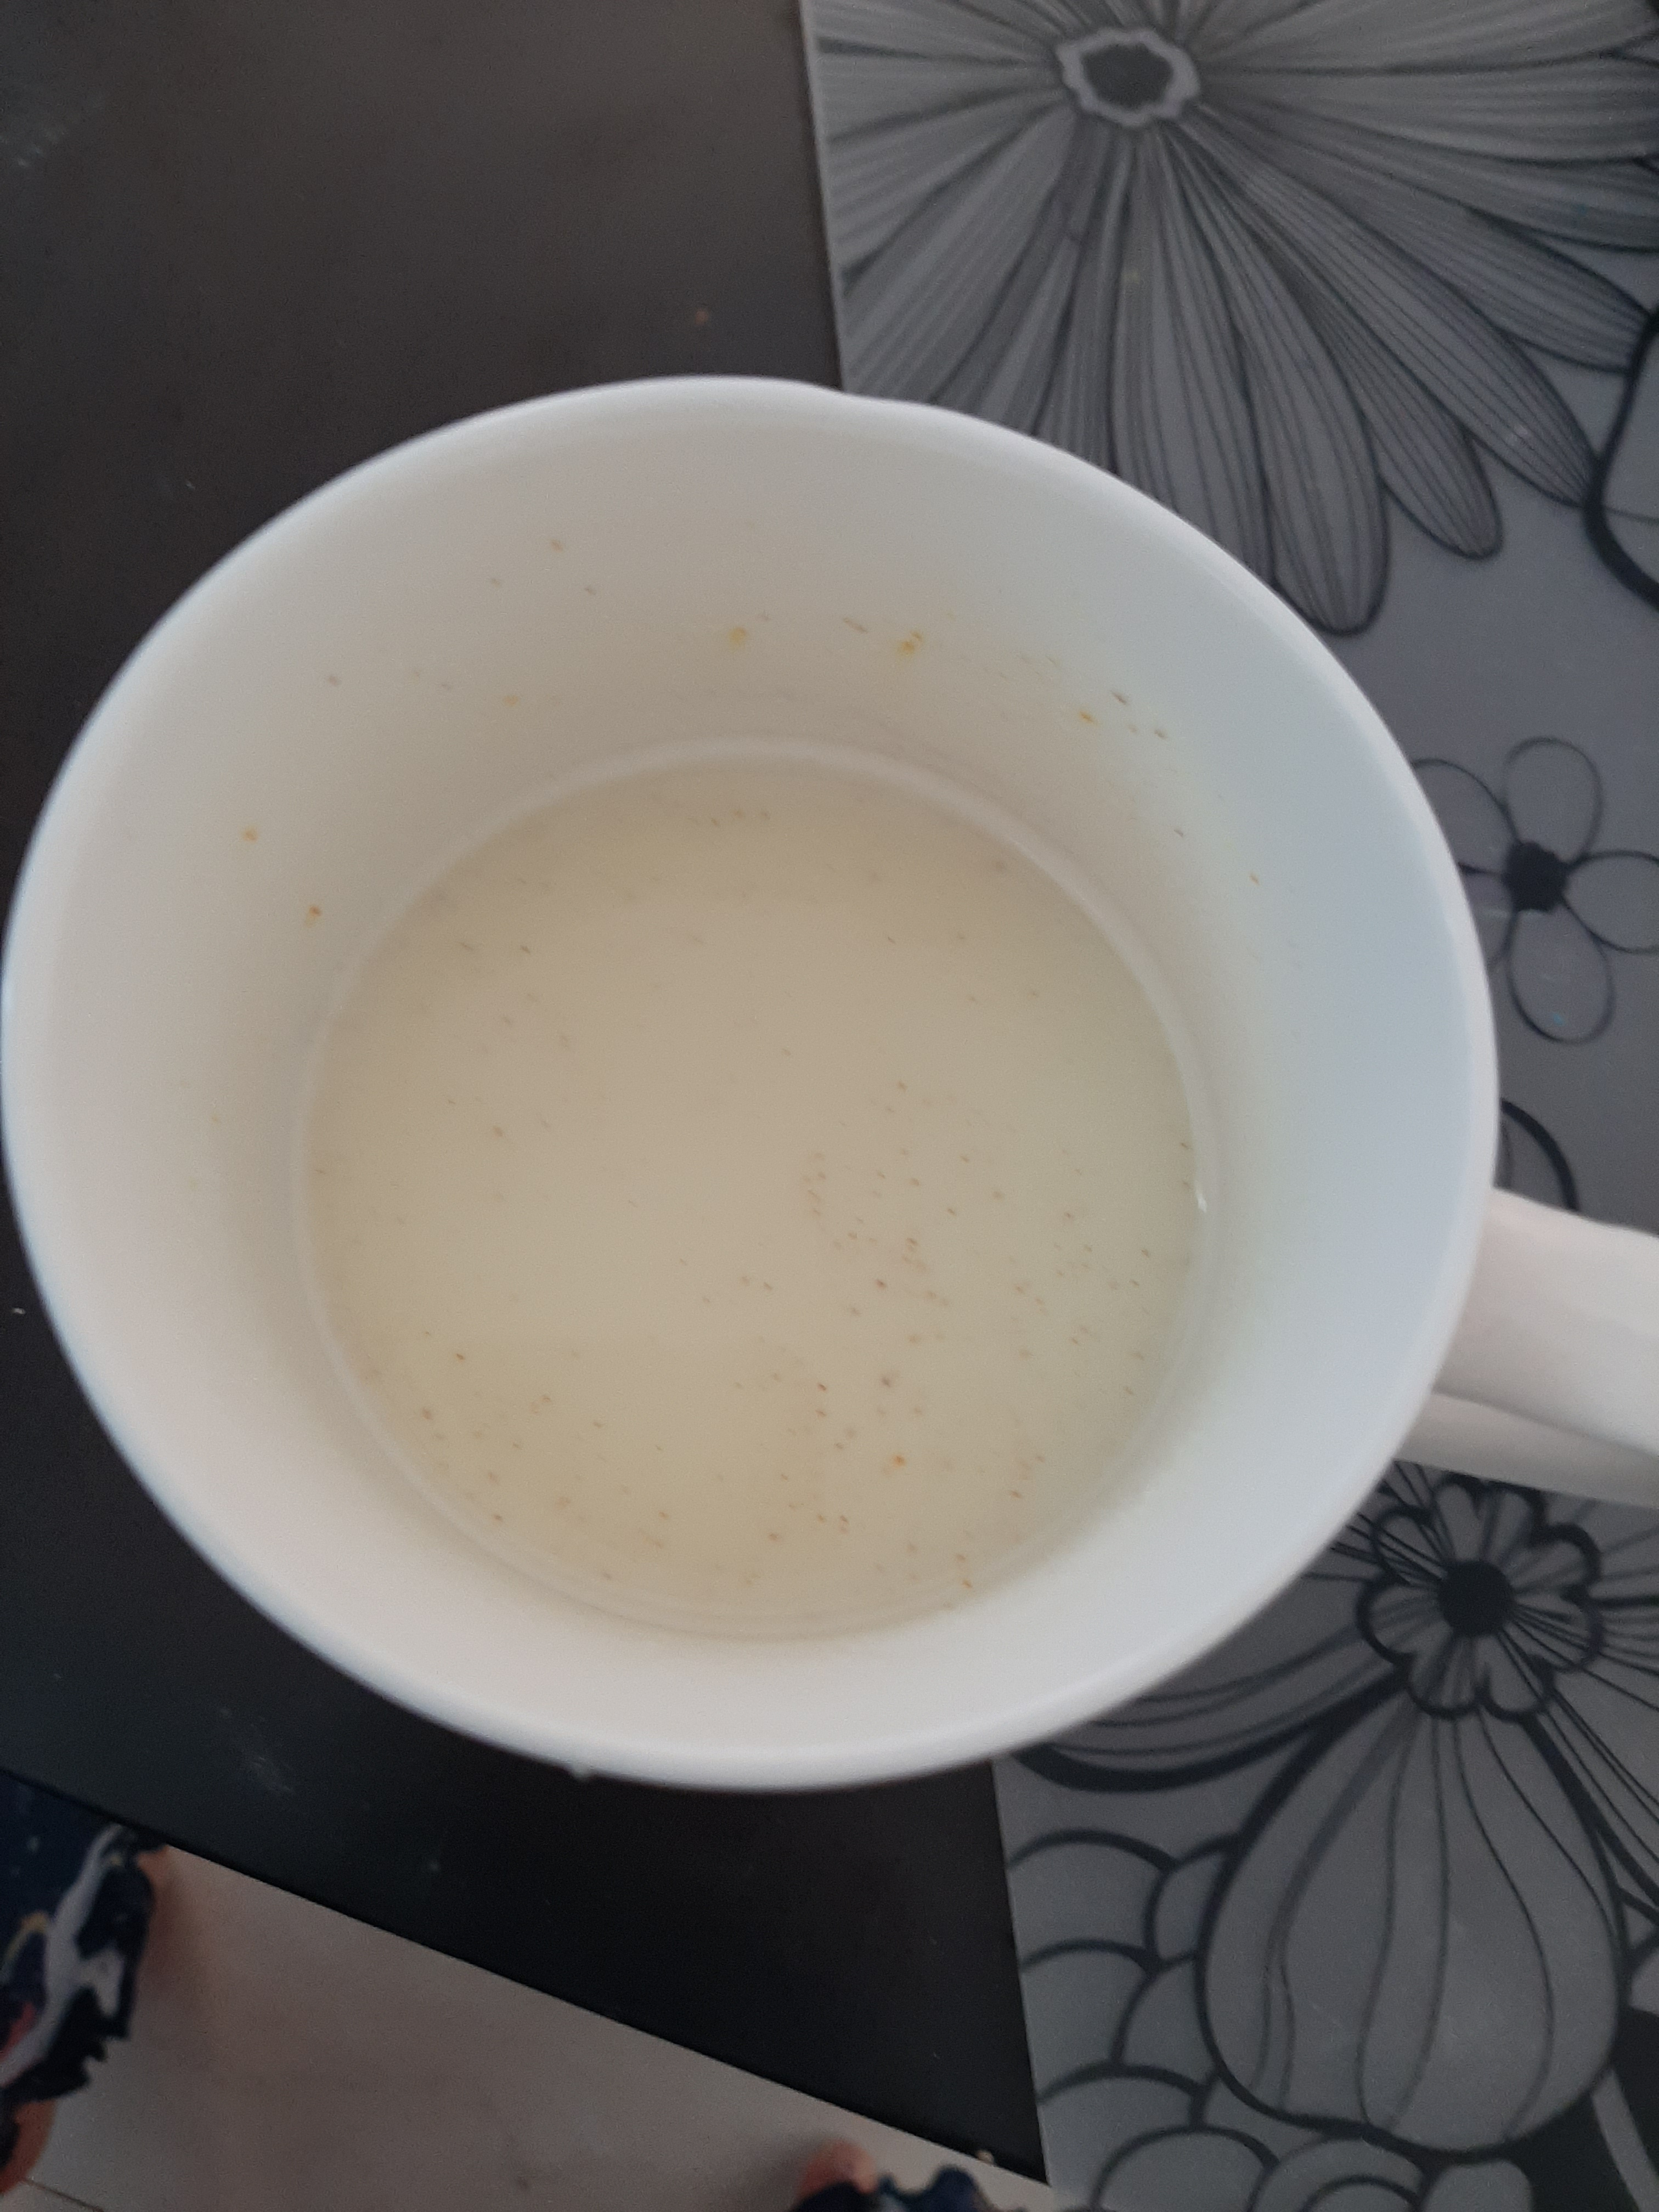food: (288, 725, 1220, 1660)
